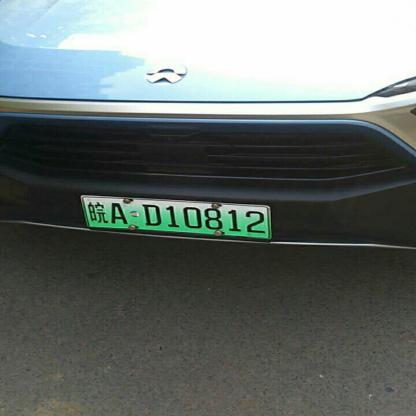lp: (82, 196, 268, 236)
